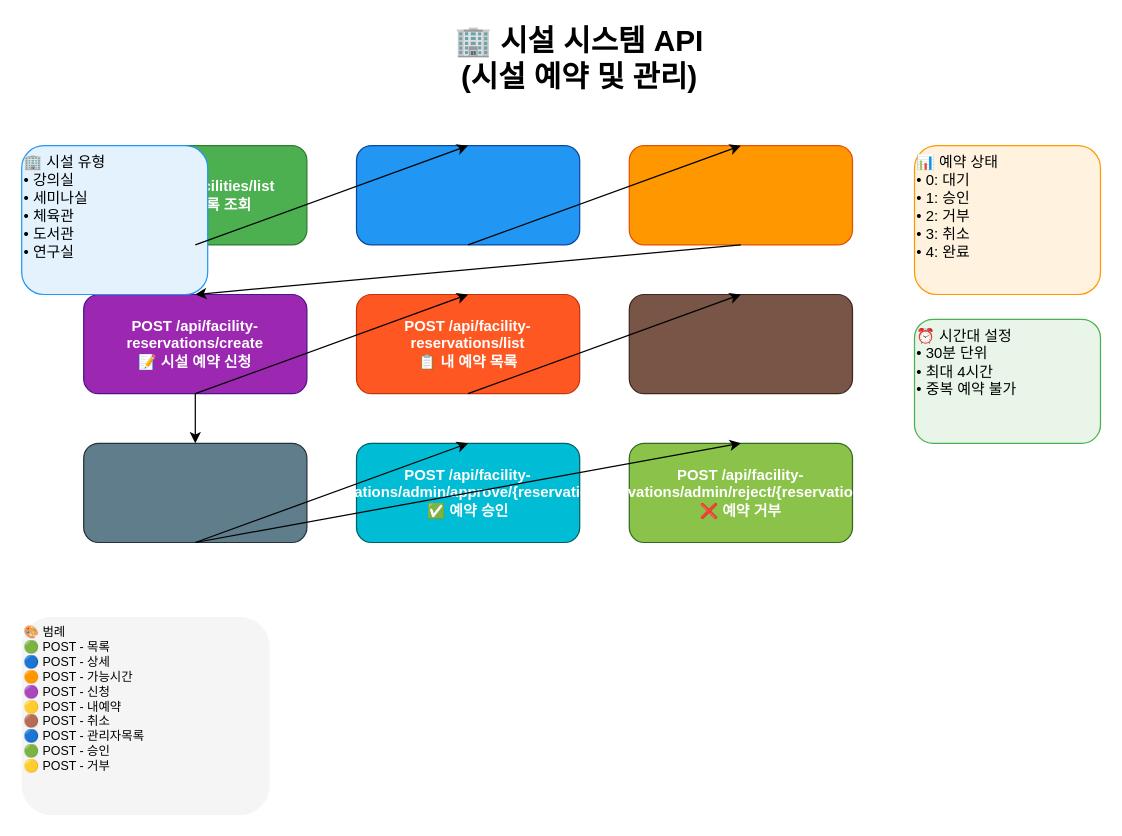
This 1122x836 diagram has some shape labels left out. Each missing label, with the centre of its shape:
POST /api/facilities/availability 📅 시설 예약 가능 시간: [740,194]
POST /api/facilities/detail/{facilityIdx} 🔍 시설 상세 정보: [467,194]
POST /api/facility-reservations/admin/list 👨‍💼 관리자 예약 목록: [194,492]
POST /api/facility-reservations/cancel/{reservationIdx} ❌ 예약 취소: [740,343]
